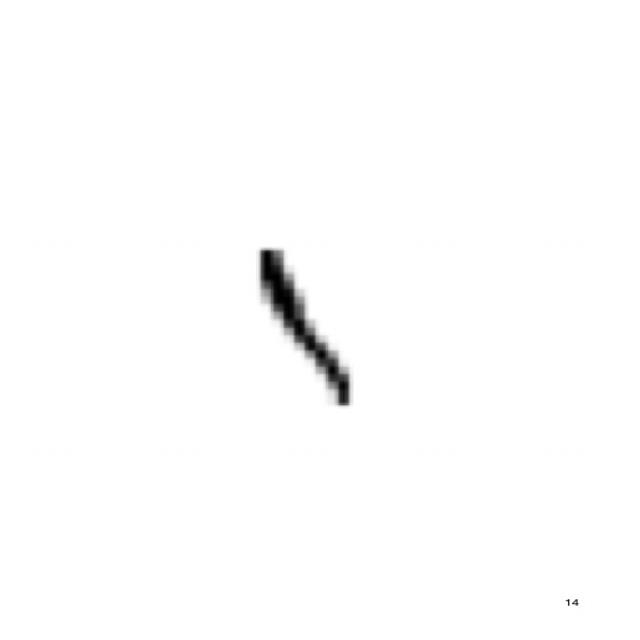1 -one-: (244, 238, 366, 420)
